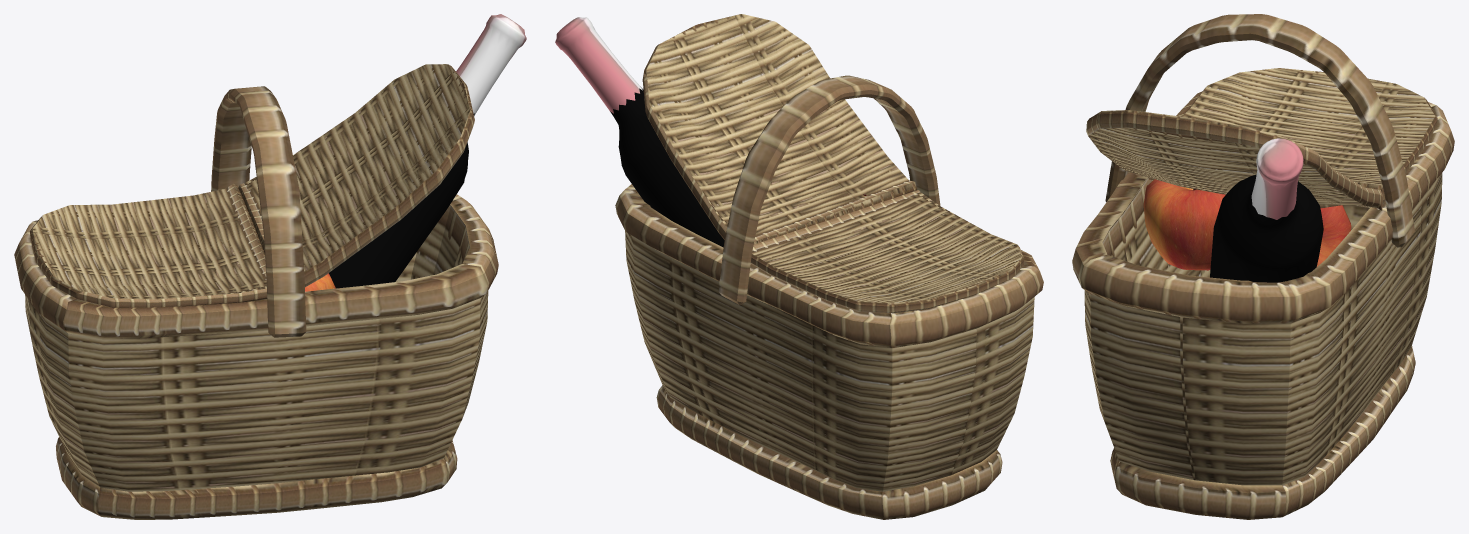
File: basket.gltf
The picture shows the model from 3 angles, left to right: view 1: azimuth 30°, elevation 25°; view 2: azimuth 150°, elevation 25°; view 3: azimuth 270°, elevation 25°; orthographic projection. The views are drawn at different scales.
Parts seen in each view (by area): view 1: polySurface19, polySurface22, polySurface16, polySurface23, polySurface6; view 2: polySurface19, polySurface22, polySurface16, polySurface23, polySurface6; view 3: polySurface19, polySurface16, polySurface22, polySurface6, polySurface23, polySurface14, polySurface15.
Boxes of the visible parts, left/top/right/bottom form: polySurface19: left=14, top=194, right=498, bottom=519; polySurface22: left=238, top=64, right=474, bottom=287; polySurface16: left=30, top=183, right=267, bottom=307; polySurface23: left=211, top=86, right=306, bottom=337; polySurface6: left=329, top=14, right=526, bottom=288; polySurface19: left=615, top=184, right=1043, bottom=519; polySurface22: left=642, top=14, right=917, bottom=244; polySurface16: left=750, top=190, right=1023, bottom=313; polySurface23: left=718, top=75, right=940, bottom=304; polySurface6: left=555, top=17, right=724, bottom=247; polySurface19: left=1072, top=91, right=1454, bottom=519; polySurface16: left=1182, top=68, right=1437, bottom=203; polySurface22: left=1086, top=110, right=1382, bottom=210; polySurface6: left=1210, top=138, right=1323, bottom=282; polySurface23: left=1105, top=14, right=1414, bottom=247; polySurface14: left=1143, top=179, right=1225, bottom=270; polySurface15: left=1316, top=205, right=1351, bottom=266.
Size of the model in its own units: 15.69 by 12 by 9.82.
5 materials, 4 textured.
